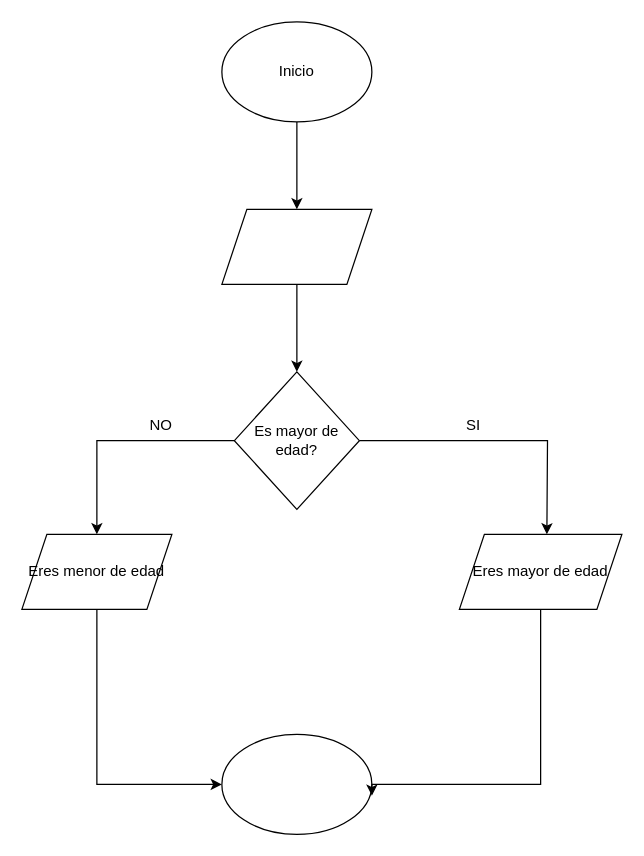
Image size: 644x856. Some labels were removed from this diagram. The centre of each missing label's shape, as x and y in pixels:
"FIN" belongs at point 296,783.
"Ingresa edad" belongs at point 296,246.
